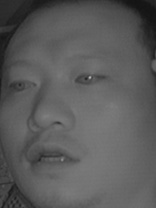eye: (73, 68, 106, 89), (7, 73, 37, 94)
mouth: (21, 137, 87, 178)
